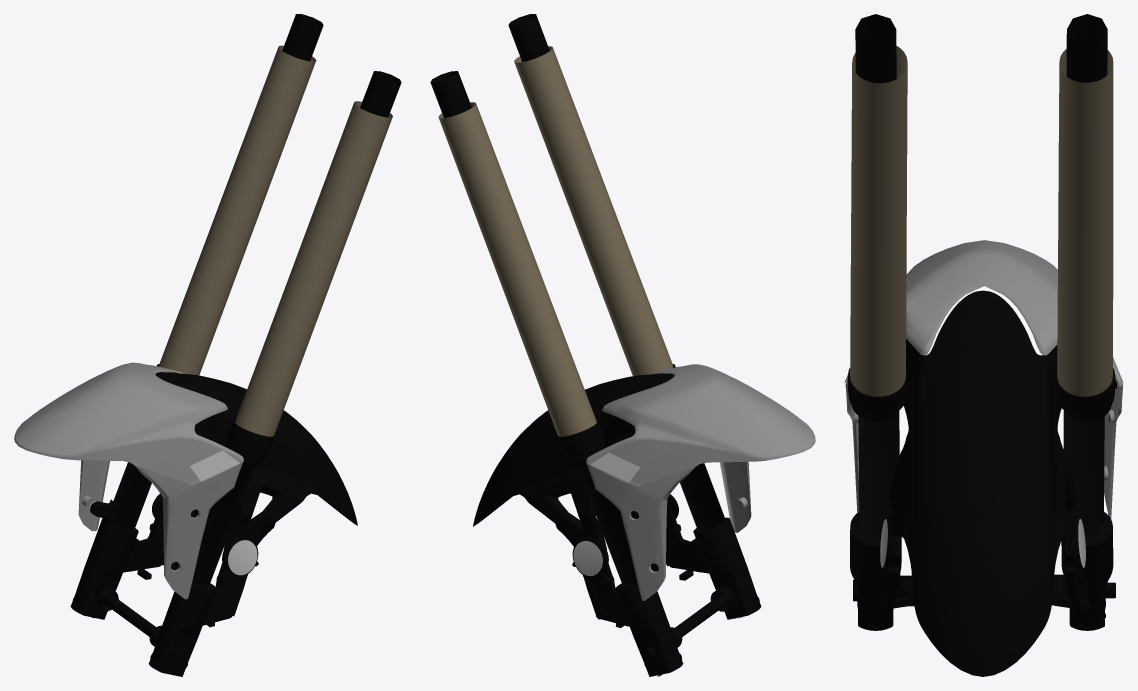
The model's file is front suspension .fbx.
3 renders of one model, left to right at view 1: azimuth 30°, elevation 25°; view 2: azimuth 150°, elevation 25°; view 3: azimuth 270°, elevation 25°, orthographic. The views are drawn at different scales.
Visible parts, largest first — view 1: polySurface688, pasted__front_mudguard1.002, pasted__front_mudguard1.001, polySurface689, pasted__polySurface44, polySurface688.001, pasted__front_mudguard1.004, pasted__front_mudguard1.003, polySurface681, polySurface690, polySurface691, polySurface705 (+1 smaller); view 2: polySurface688, pasted__front_mudguard1.002, pasted__front_mudguard1.001, polySurface689, pasted__polySurface44, polySurface688.001, pasted__front_mudguard1.003, pasted__front_mudguard1.004, polySurface690, polySurface681, polySurface682, polySurface680 (+1 smaller); view 3: polySurface689, pasted__front_mudguard1.002, pasted__front_mudguard1.001, polySurface688, pasted__polySurface44, pasted__front_mudguard1.004, pasted__front_mudguard1.003, polySurface688.001, polySurface682, polySurface691, polySurface690, polySurface681.
Boxes of the visible parts, bbox=[...] form: polySurface688: bbox=[14, 362, 243, 484]; pasted__front_mudguard1.002: bbox=[235, 101, 392, 436]; pasted__front_mudguard1.001: bbox=[158, 45, 316, 375]; polySurface689: bbox=[155, 372, 357, 549]; pasted__polySurface44: bbox=[70, 518, 216, 676]; polySurface688.001: bbox=[78, 460, 243, 599]; pasted__front_mudguard1.004: bbox=[192, 71, 401, 585]; pasted__front_mudguard1.003: bbox=[109, 14, 323, 530]; polySurface681: bbox=[123, 501, 163, 579]; polySurface690: bbox=[203, 537, 247, 627]; polySurface691: bbox=[226, 420, 274, 464]; polySurface705: bbox=[228, 540, 257, 575]; polySurface688: bbox=[586, 364, 815, 486]; pasted__front_mudguard1.002: bbox=[514, 46, 673, 375]; pasted__front_mudguard1.001: bbox=[438, 102, 596, 436]; polySurface689: bbox=[473, 373, 674, 549]; pasted__polySurface44: bbox=[615, 517, 761, 676]; polySurface688.001: bbox=[586, 461, 751, 600]; pasted__front_mudguard1.003: bbox=[430, 71, 637, 585]; pasted__front_mudguard1.004: bbox=[508, 14, 725, 530]; polySurface690: bbox=[666, 500, 709, 580]; polySurface681: bbox=[583, 537, 629, 627]; polySurface682: bbox=[557, 420, 605, 464]; polySurface680: bbox=[573, 541, 602, 575]; polySurface689: bbox=[890, 290, 1116, 676]; pasted__front_mudguard1.002: bbox=[850, 46, 907, 396]; pasted__front_mudguard1.001: bbox=[1057, 49, 1113, 396]; polySurface688: bbox=[845, 240, 1122, 386]; pasted__polySurface44: bbox=[850, 512, 1115, 630]; pasted__front_mudguard1.004: bbox=[855, 14, 899, 538]; pasted__front_mudguard1.003: bbox=[1063, 14, 1107, 537]; polySurface688.001: bbox=[845, 378, 1123, 519]; polySurface682: bbox=[1055, 368, 1115, 421]; polySurface691: bbox=[848, 367, 907, 421]; polySurface690: bbox=[878, 513, 913, 614]; polySurface681: bbox=[1053, 513, 1087, 614].
Size of the model in its own units: 147 by 227 by 77.17.
